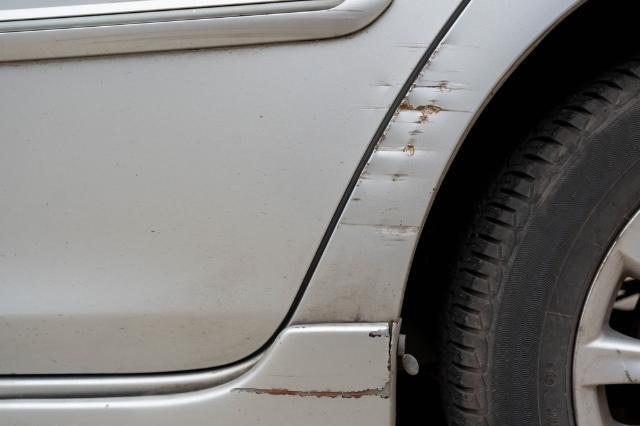crack: (231, 322, 396, 404)
scratch: (333, 39, 476, 245), (359, 40, 434, 113)
